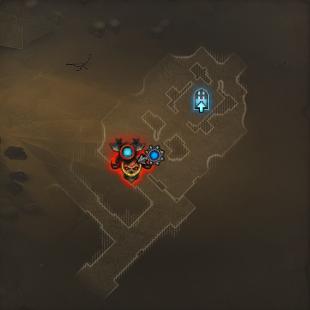Guardian: (109, 152, 153, 184)
